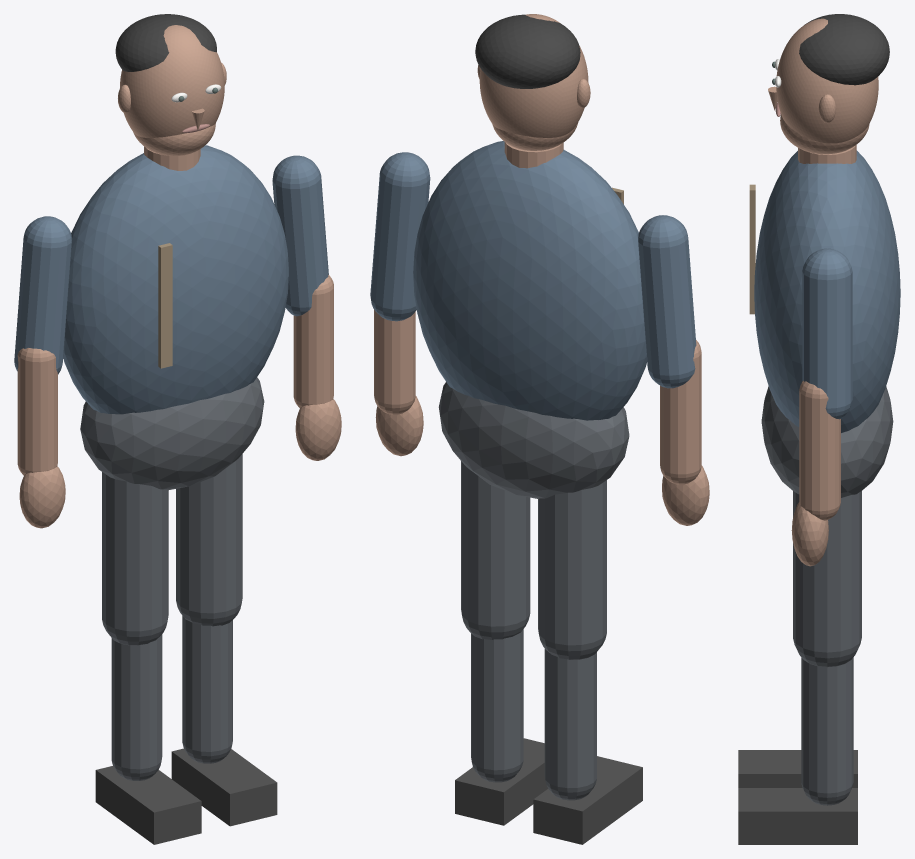
Rendered from council-guardian-human-v1.glb.
3 renders of one model, left to right at view 1: azimuth 30°, elevation 25°; view 2: azimuth 150°, elevation 25°; view 3: azimuth 270°, elevation 25°, orthographic. The views are drawn at different scales.
Parts seen in each view (by area): view 1: guardian-torso, guardian-pelvis, guardian-thigh-left, guardian-thigh-right, guardian-head, guardian-calf-left, guardian-calf-right, guardian-upper-arm-left, guardian-upper-arm-right, guardian-shoe-left, guardian-shoe-right, guardian-forearm-left (+7 smaller); view 2: guardian-torso, guardian-pelvis, guardian-thigh-left, guardian-thigh-right, guardian-upper-arm-left, guardian-calf-right, guardian-upper-arm-right, guardian-calf-left, guardian-hair-cap, guardian-shoe-left, guardian-head, guardian-forearm-left (+6 smaller); view 3: guardian-torso, guardian-thigh-right, guardian-upper-arm-right, guardian-calf-right, guardian-head, guardian-shoe-right, guardian-pelvis, guardian-forearm-right, guardian-hair-cap, guardian-shoe-left, guardian-hand-right, guardian-jaw (+3 smaller).
Boxes of the visible parts, bbox=[...] form: guardian-torso: bbox=[63, 145, 288, 414]; guardian-pelvis: bbox=[80, 377, 264, 490]; guardian-thigh-left: bbox=[102, 472, 168, 645]; guardian-thigh-right: bbox=[176, 454, 242, 626]; guardian-head: bbox=[120, 25, 224, 137]; guardian-calf-left: bbox=[111, 634, 162, 780]; guardian-calf-right: bbox=[182, 616, 232, 763]; guardian-upper-arm-left: bbox=[14, 216, 71, 374]; guardian-upper-arm-right: bbox=[272, 155, 328, 316]; guardian-shoe-left: bbox=[95, 766, 201, 844]; guardian-shoe-right: bbox=[171, 748, 277, 826]; guardian-forearm-left: bbox=[17, 348, 57, 475]; guardian-torso: bbox=[413, 141, 646, 420]; guardian-pelvis: bbox=[438, 382, 629, 498]; guardian-thigh-left: bbox=[538, 480, 606, 659]; guardian-thigh-right: bbox=[461, 461, 530, 639]; guardian-upper-arm-left: bbox=[638, 215, 696, 388]; guardian-calf-right: bbox=[471, 629, 523, 782]; guardian-upper-arm-right: bbox=[370, 152, 430, 321]; guardian-calf-left: bbox=[544, 649, 596, 800]; guardian-hair-cap: bbox=[475, 14, 580, 88]; guardian-shoe-left: bbox=[533, 756, 642, 844]; guardian-head: bbox=[479, 14, 588, 137]; guardian-forearm-left: bbox=[660, 340, 701, 484]; guardian-torso: bbox=[754, 150, 900, 432]; guardian-thigh-right: bbox=[793, 491, 861, 667]; guardian-upper-arm-right: bbox=[802, 248, 852, 419]; guardian-calf-right: bbox=[801, 657, 853, 805]; guardian-head: bbox=[776, 18, 878, 143]; guardian-shoe-right: bbox=[738, 788, 857, 844]; guardian-pelvis: bbox=[761, 386, 893, 497]; guardian-forearm-right: bbox=[799, 380, 840, 520]; guardian-hair-cap: bbox=[799, 14, 889, 85]; guardian-shoe-left: bbox=[738, 750, 857, 787]; guardian-hand-right: bbox=[791, 502, 828, 566]; guardian-jaw: bbox=[780, 114, 869, 154].
Size of the model in its own units: 0.8123 by 1.88 by 0.3491.
